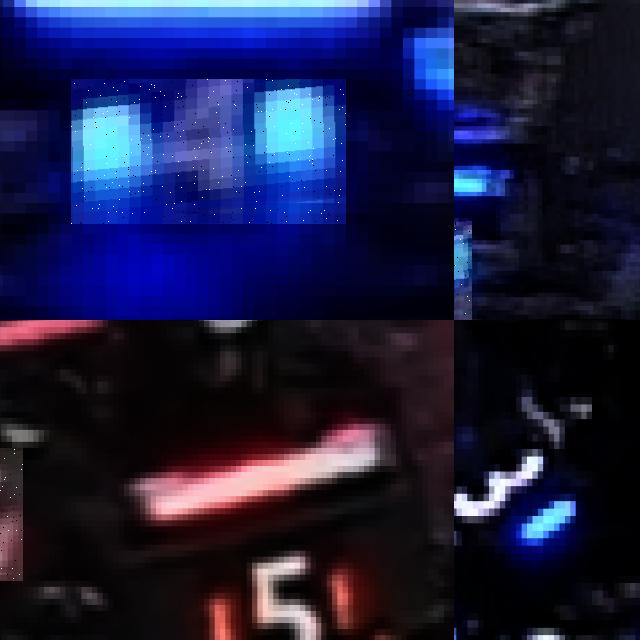B3: (454, 411, 570, 553)
B4: (71, 79, 346, 224)
R5: (204, 556, 364, 640), (0, 448, 22, 581)
